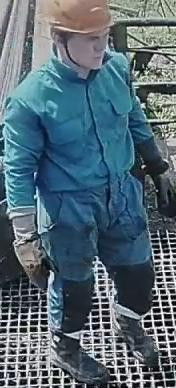gloves: (10, 212, 58, 290), (150, 166, 175, 217)
helmet: (44, 0, 115, 51)
vest: (0, 57, 146, 210)
